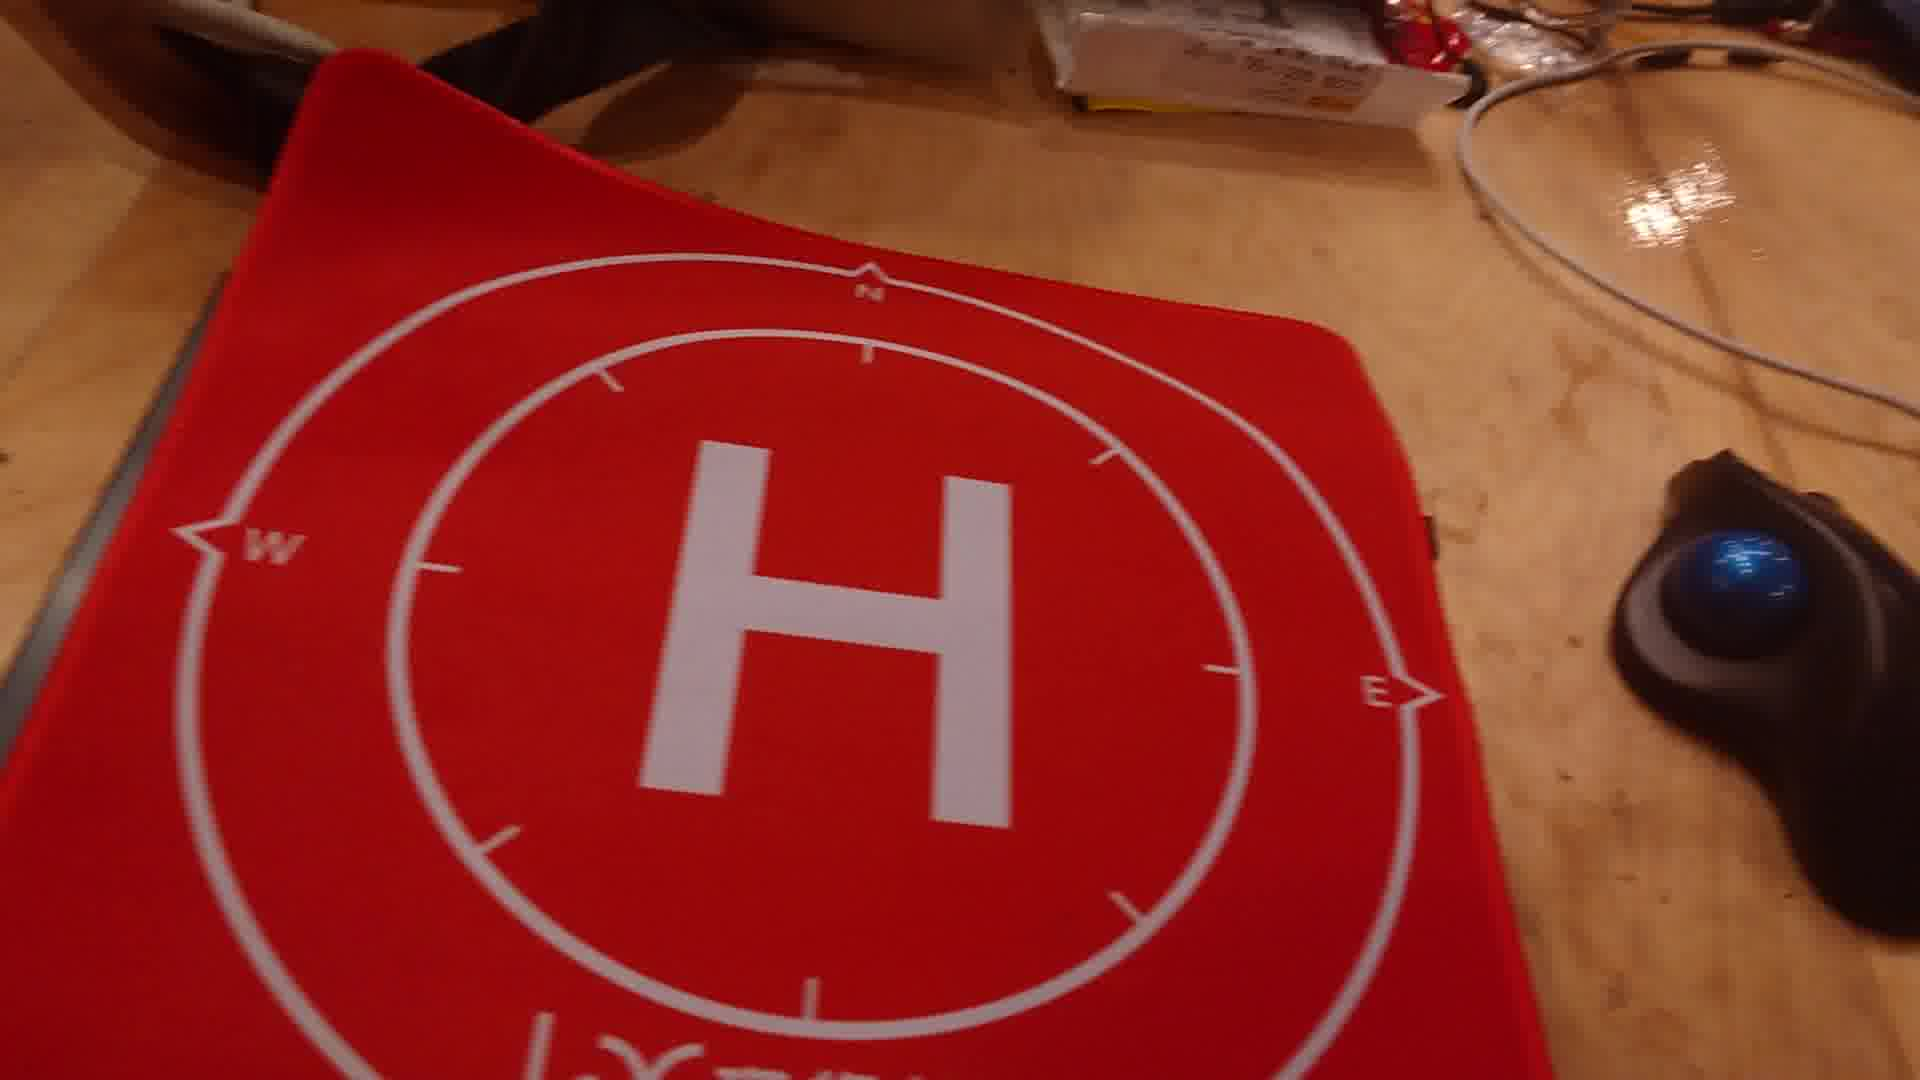H: (637, 434, 1015, 833)
